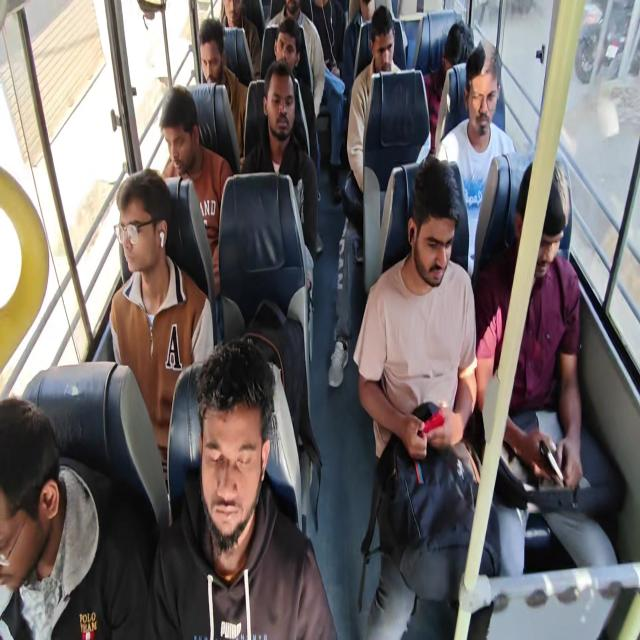person: (198, 336, 278, 550), (1, 396, 81, 608), (108, 155, 174, 296), (520, 150, 576, 288), (408, 152, 462, 293), (159, 83, 207, 177), (463, 39, 504, 136), (258, 59, 296, 144), (197, 9, 227, 83), (370, 0, 399, 68), (444, 18, 474, 75), (271, 12, 300, 66), (0, 371, 1, 374)
